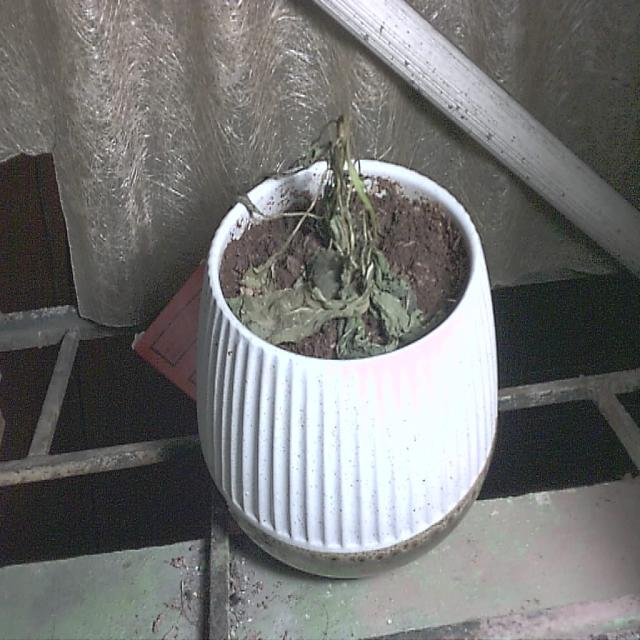Leaf: (308, 252, 409, 357), (230, 285, 372, 335)
